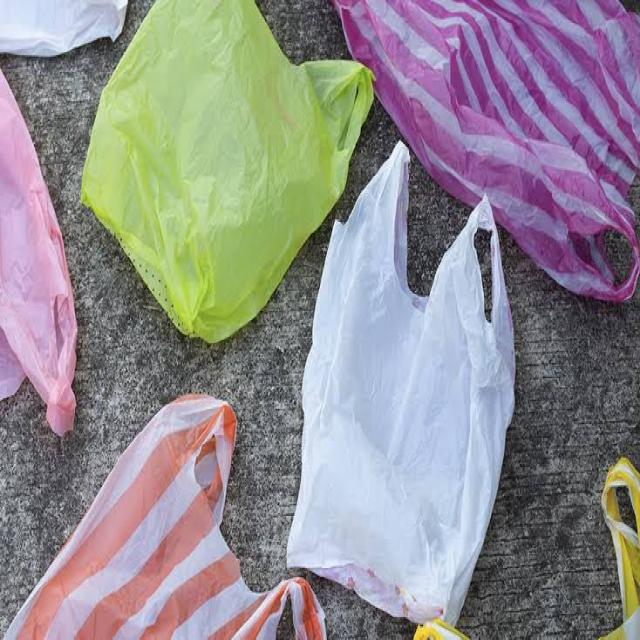plastic bag: (280, 128, 526, 591)
